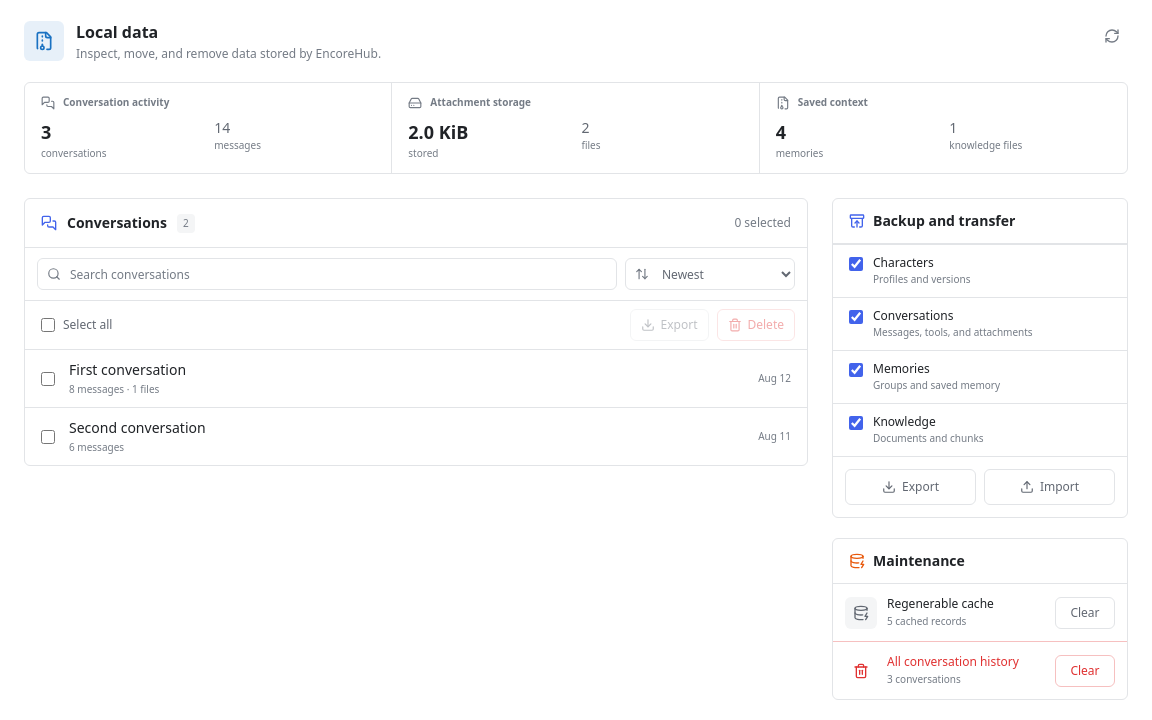
it: DataPanel › filters conversations and selects only the visible result
Check: the text "First conversation" is shown, box top-left (69, 360), bottom-right (186, 379)
Type "Second" into the search field labelled "Search conversations" at (327, 274), box top-left (37, 258), bottom-right (617, 290)
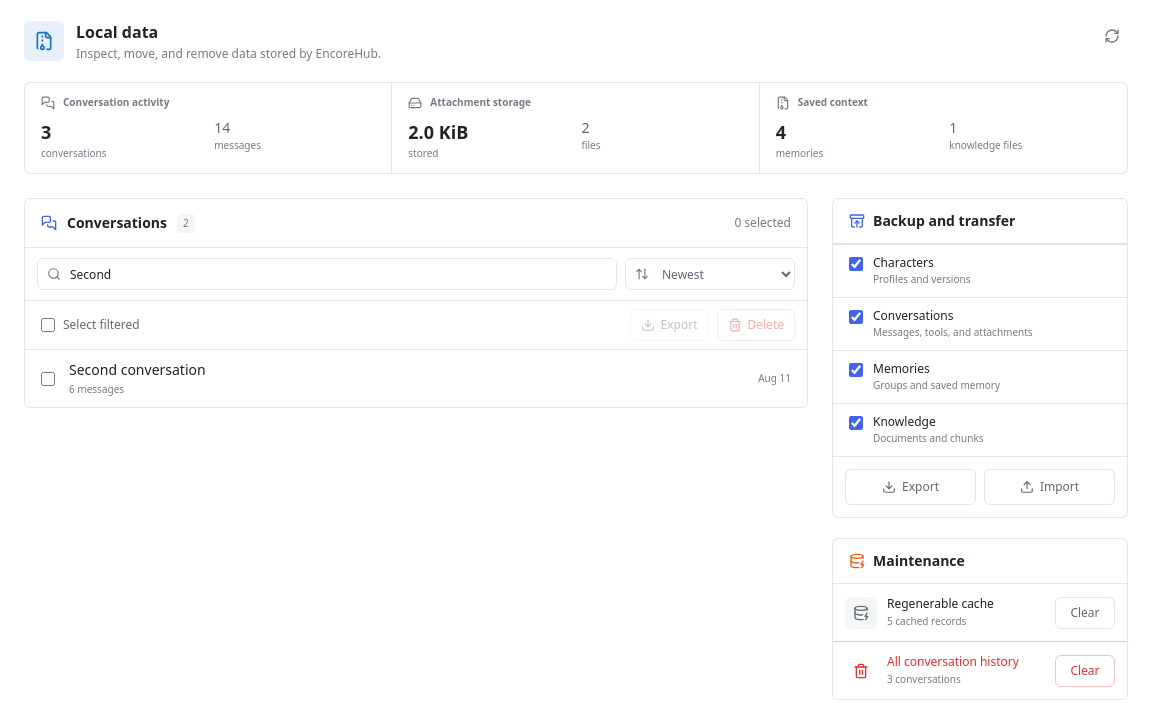
Check: the text "Second conversation" is shown, box top-left (69, 360), bottom-right (206, 379)
Check: the text "First conversation" is gone
Click the checkbox named "Toggle all conversations" at (48, 325), box top-left (41, 318), bottom-right (55, 332)
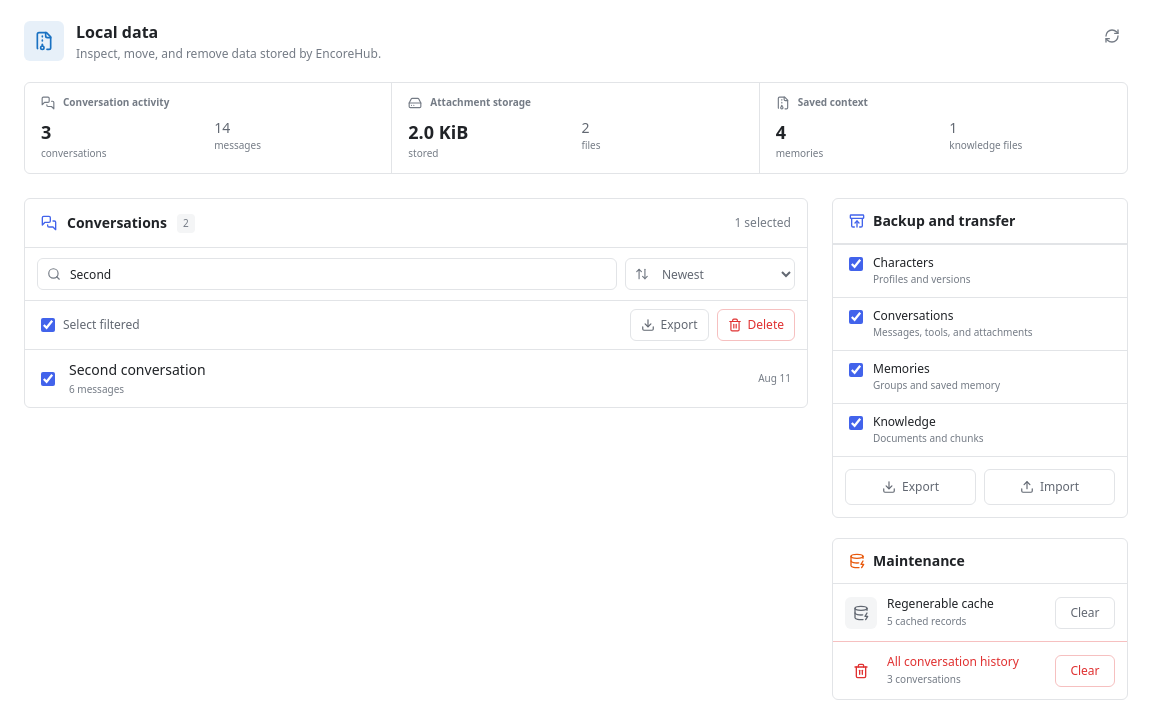
Check: the text "1 selected" is shown, box top-left (734, 215), bottom-right (791, 231)
Check: the checkbox labelled "Second conversation 6 messages Aug 11" is checked, box top-left (41, 372), bottom-right (55, 386)
